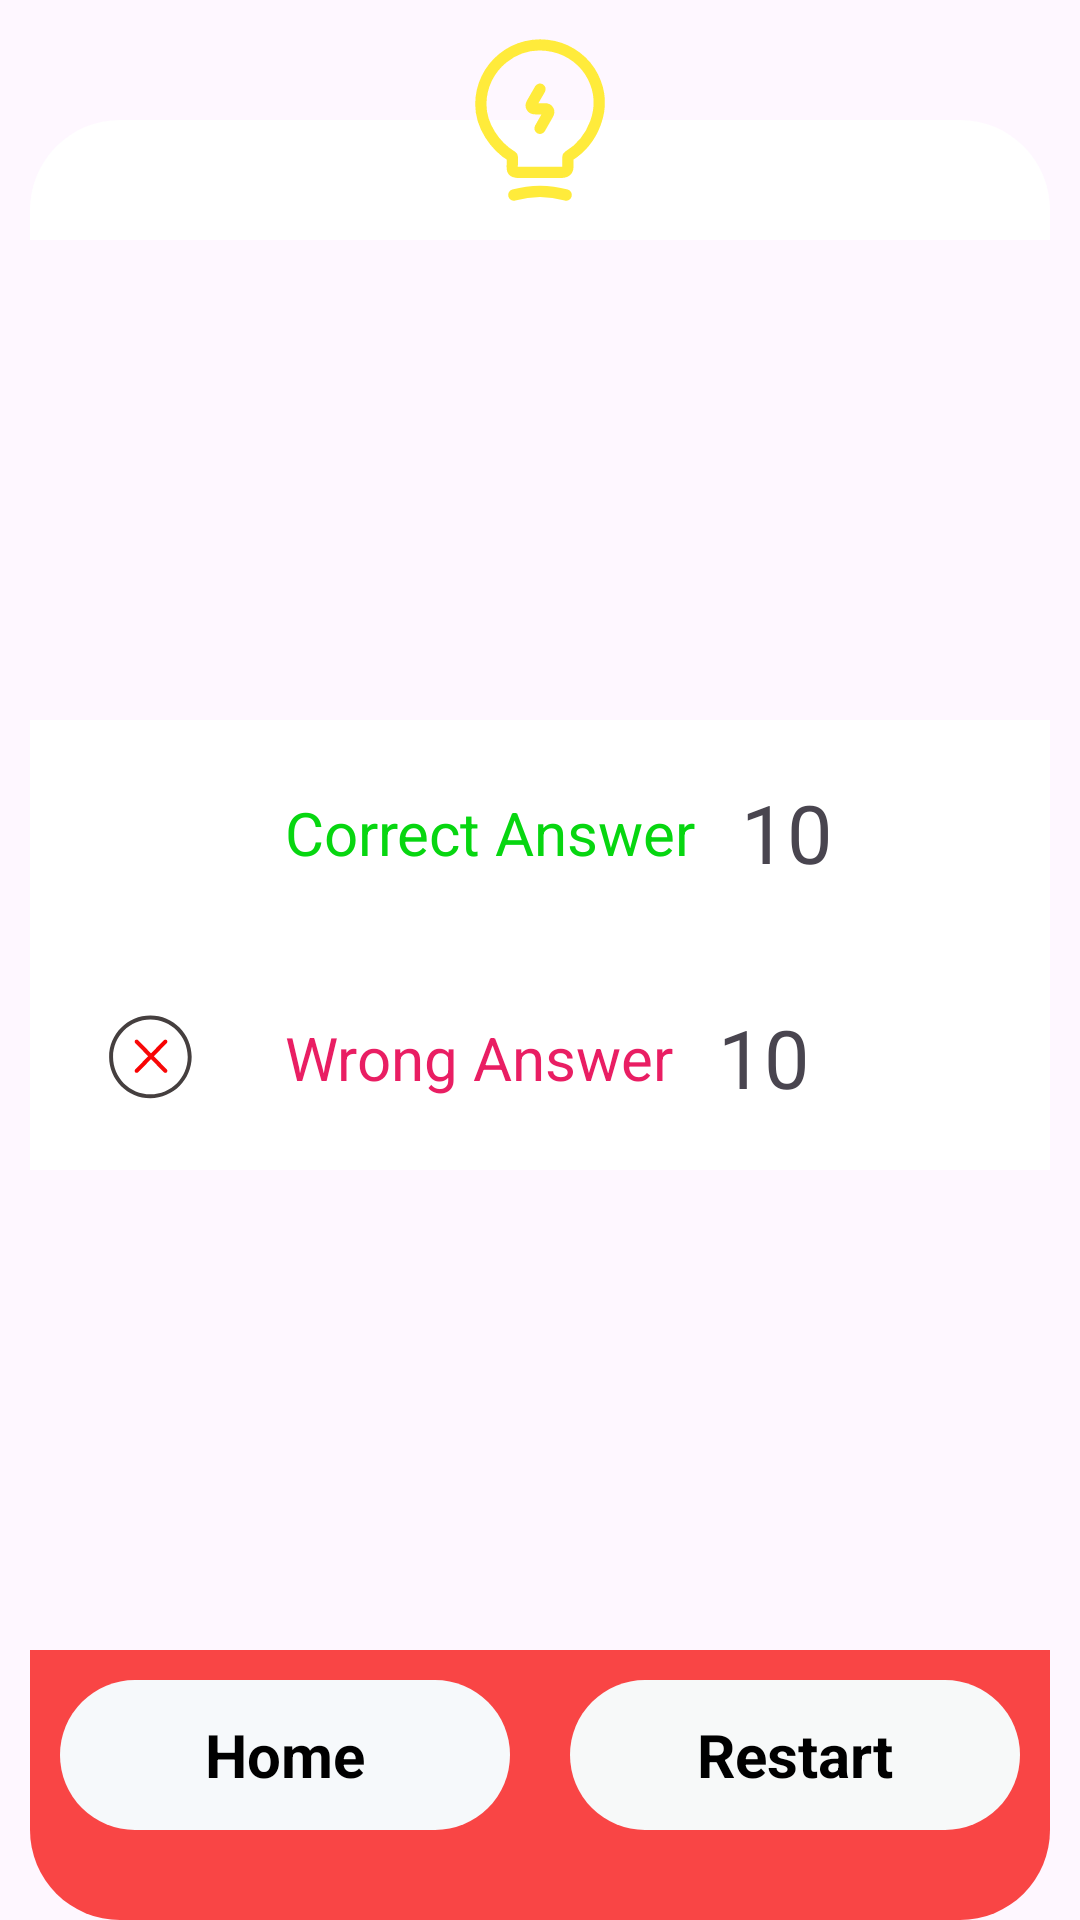

Icon click points for this 1080px×1920px phone screenshot, format (x=x, y=y):
info quiz: (x=540, y=120)
